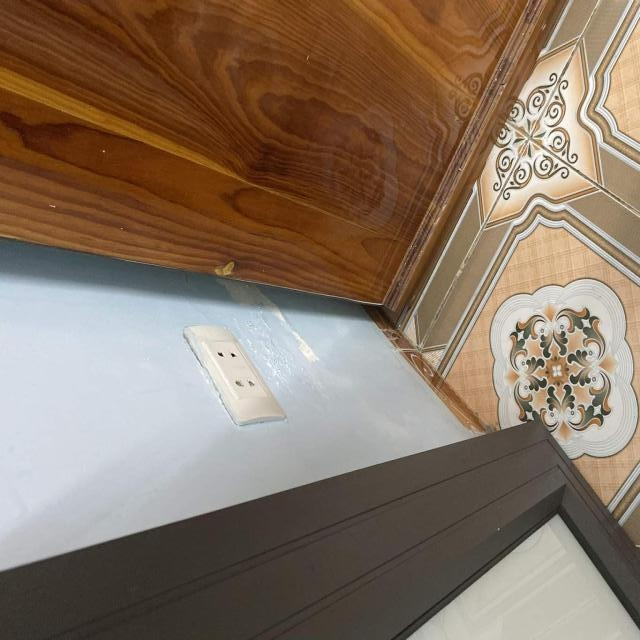outlet: (182, 326, 286, 426)
